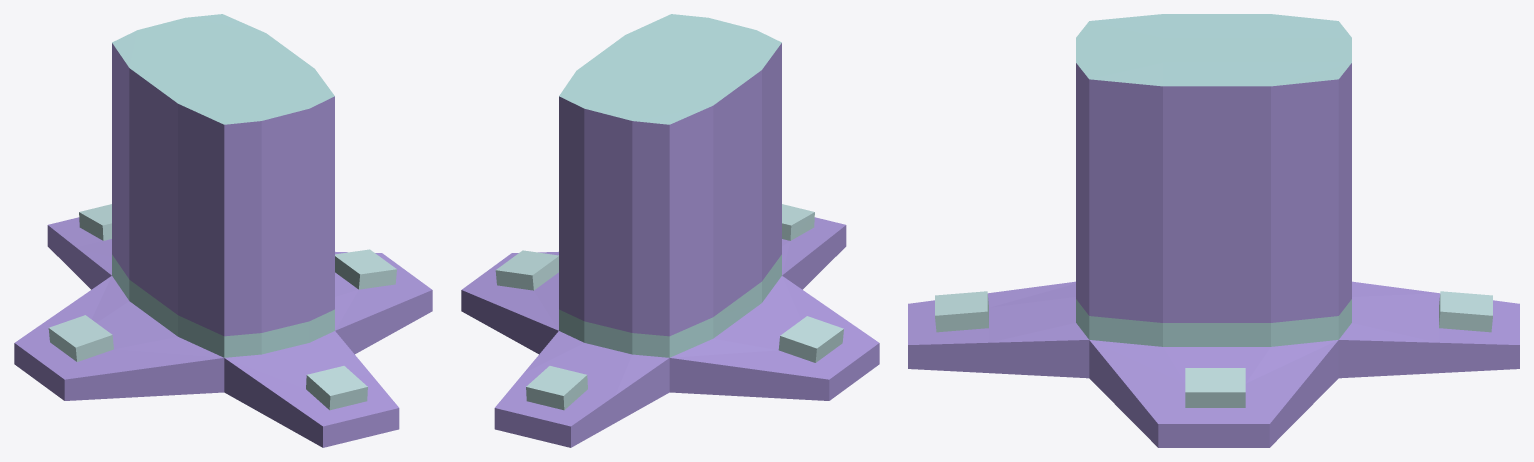
Rendered from Proxy TurretStationary Base.fbx.
3 views of the same model, side by side, from view 1: azimuth 30°, elevation 25°; view 2: azimuth 150°, elevation 25°; view 3: azimuth 270°, elevation 25° (orthographic). The views are drawn at different scales.
Parts seen in each view (by area): view 1: turretStationary_Base; view 2: turretStationary_Base; view 3: turretStationary_Base.
Boxes of the visible parts, x1,y1,x2,y2 form: turretStationary_Base: (14, 14, 432, 447); turretStationary_Base: (461, 14, 879, 447); turretStationary_Base: (908, 14, 1519, 447).
Size of the model in its own units: 294 by 206 by 381.
